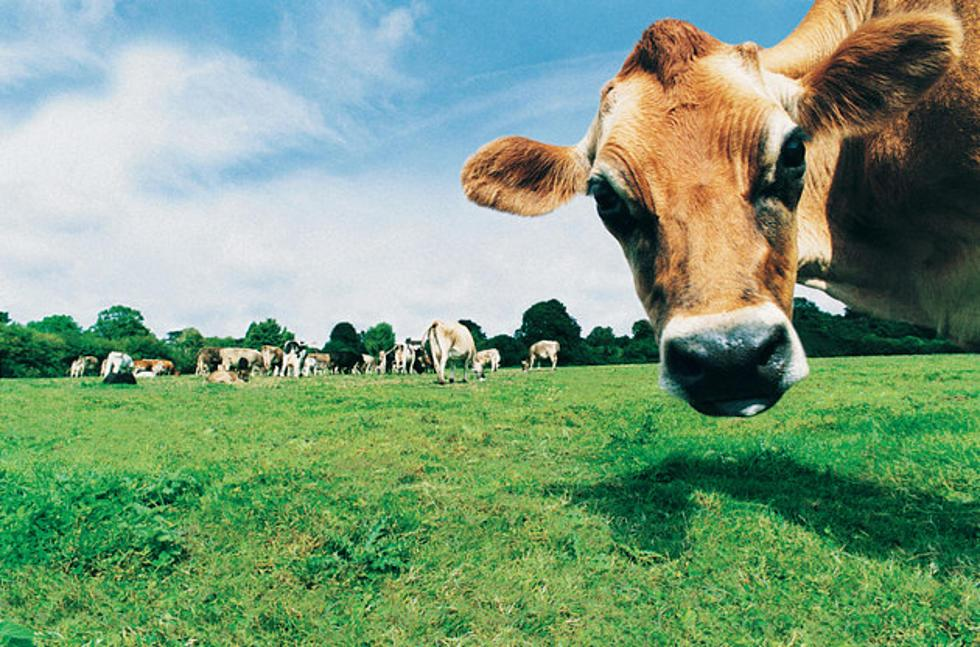muzzles: (649, 316, 819, 423)
